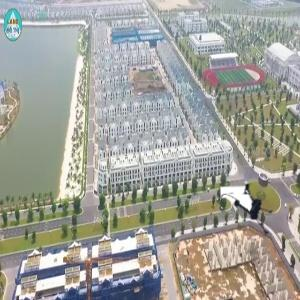drone: (222, 181, 288, 247)
